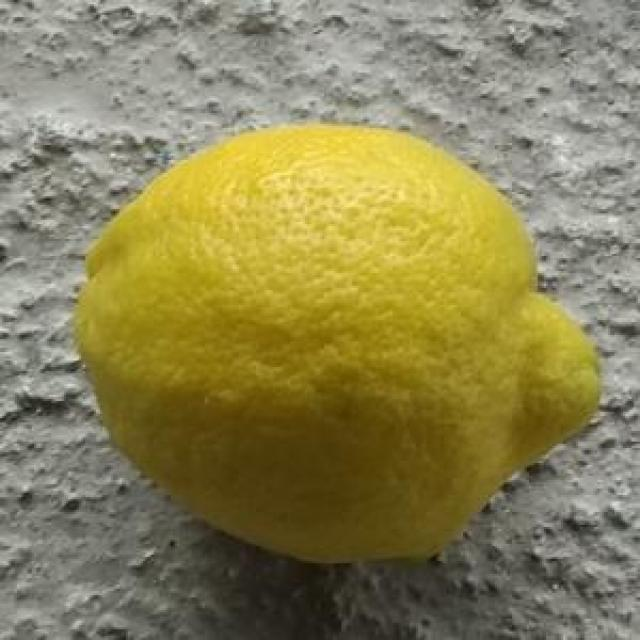lemon: (76, 127, 604, 564)
